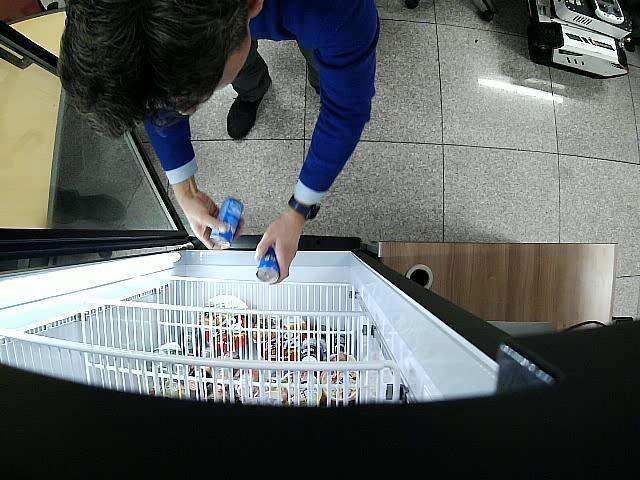15_letsbe: (210, 197, 242, 250), (256, 248, 280, 283)
